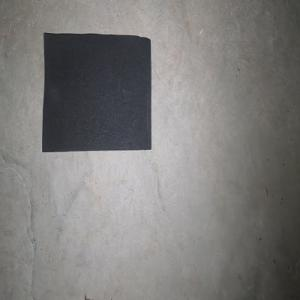PaintChip: (42, 32, 151, 152)
